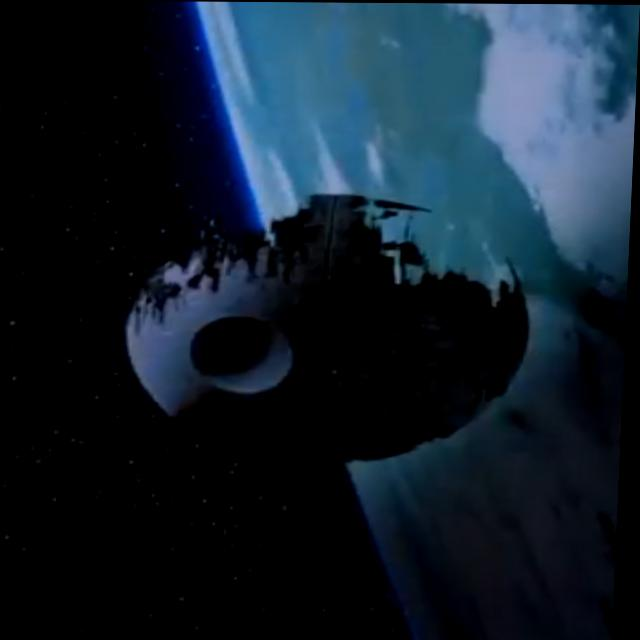deathStar: (119, 198, 536, 465)
